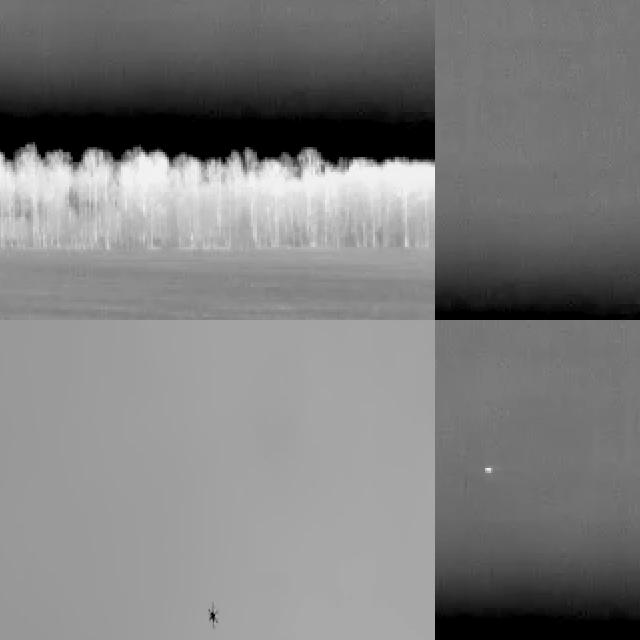1: (471, 459, 499, 487)
drone: (202, 598, 225, 636)
